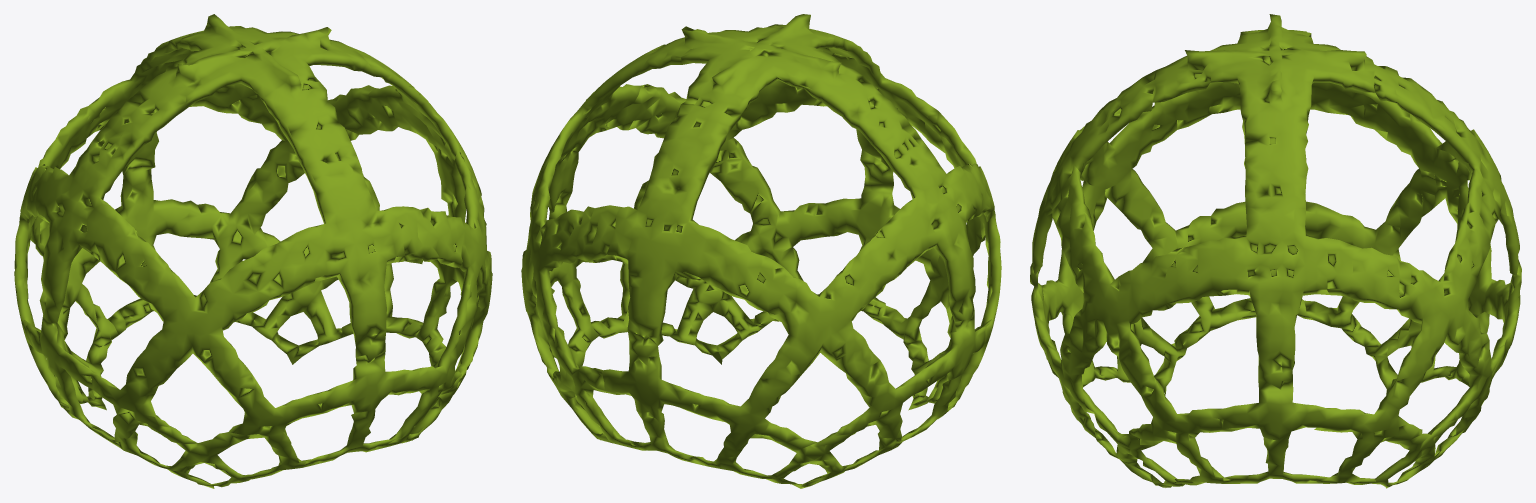
Rendered from model_decimated.obj.
3 renders of one model, left to right at view 1: azimuth 30°, elevation 25°; view 2: azimuth 150°, elevation 25°; view 3: azimuth 270°, elevation 25°, orthographic. The views are drawn at different scales.
Bounding box in the file's own units: 80.97 × 70.85 × 80.96.
